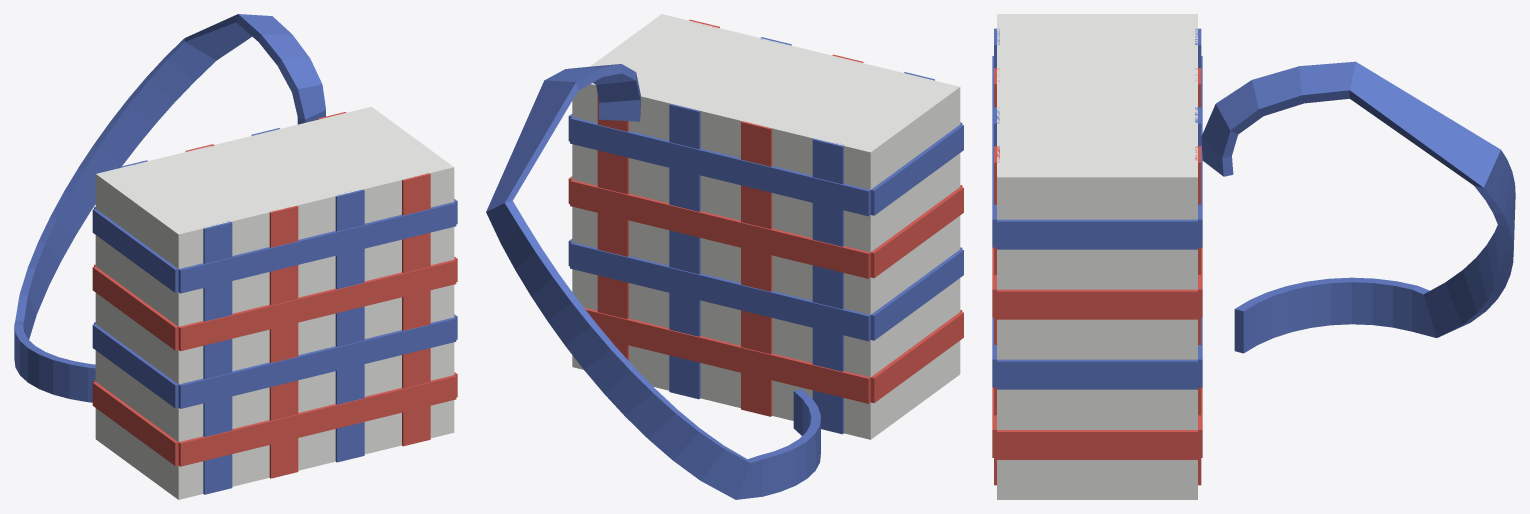
Rendered from back_bag.glb.
The picture shows the model from 3 angles, left to right: view 1: azimuth 30°, elevation 25°; view 2: azimuth 150°, elevation 25°; view 3: azimuth 270°, elevation 25°; orthographic projection. The views are drawn at different scales.
Parts seen in each view (by area): view 1: Torso; view 2: Torso; view 3: Torso.
Part boxes in pixels (bbox=[...]): Torso: bbox=[14, 14, 457, 499]; Torso: bbox=[486, 14, 963, 499]; Torso: bbox=[992, 14, 1515, 499].
Bounding box in the file's own units: 0.5144 × 0.5672 × 0.6764.
